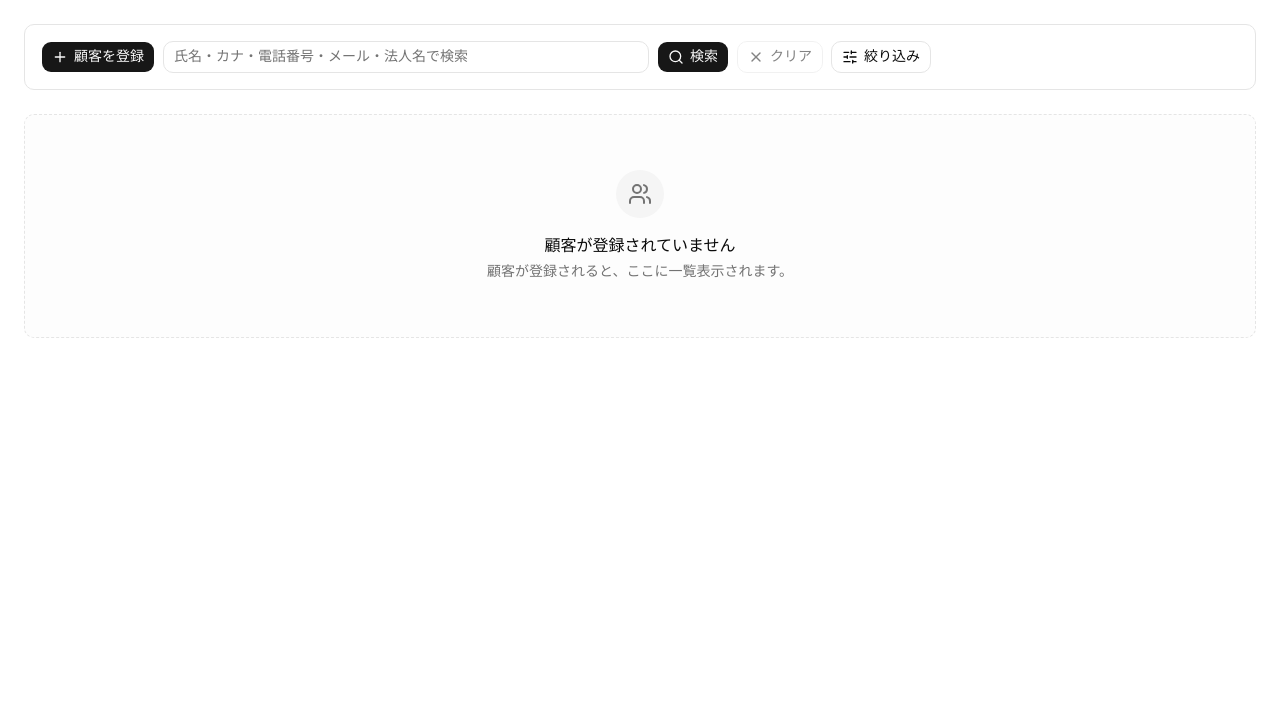
Test: CustomerListPageClient › 必須項目が未入力の場合、入力エラーを表示する
Expected: the text "顧客が登録されていません" is shown, [544,234,736,258]
What coordinates should you click on to do the following:
click the button "顧客を登録"
I would click on:
 (98, 57)
Its box is [41,41,155,73].
(page scrolled)
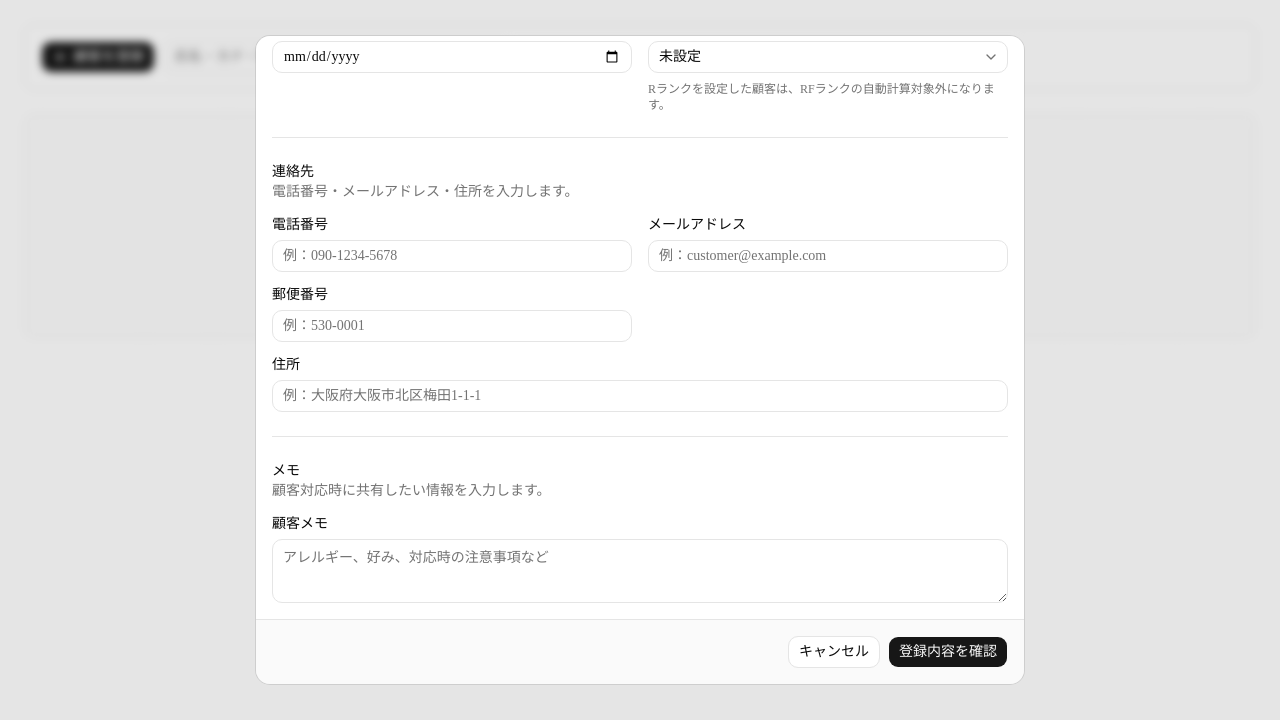
What coordinates should you click on to do the following:
click the button "登録内容を確認"
I would click on:
 (948, 652)
Its box is [888,636,1008,668].
(page scrolled)
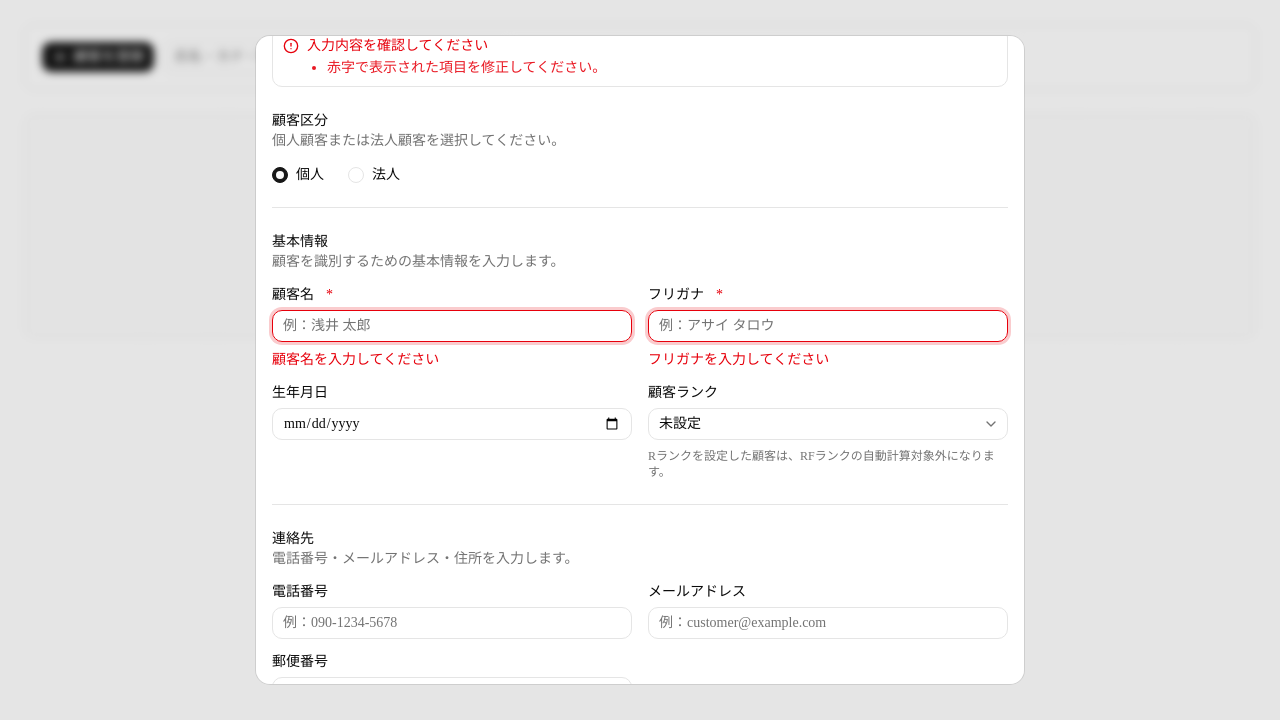
Expected: the text "入力内容を確認してください" is shown, [307,38,488,53]
Expected: the list item "赤字で表示された項目を修正してください。" is shown, [327,60,606,75]
Expected: the text "顧客名を入力してください" is shown, [272,352,439,367]
